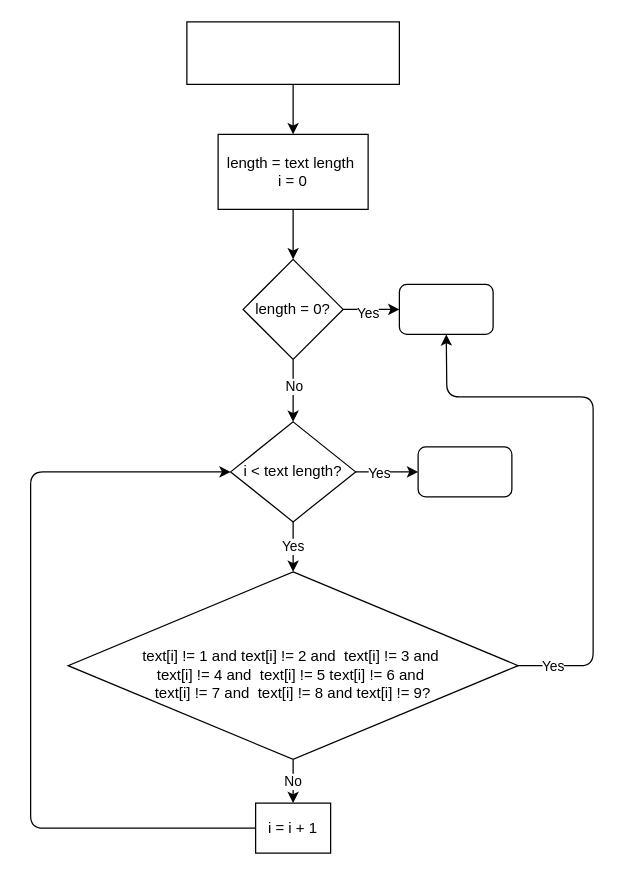
Image size: 625x875. Some labels were removed from this diagram. The centre of each missing label's shape, as x and y in pixels:
"bool method StringCanBeParsedToInt(text)" goes at (292,52).
"return false" goes at (445,308).
"return true" goes at (464,471).
